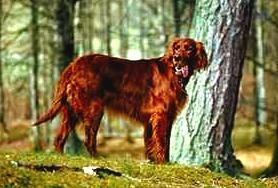Irish_setter: (27, 37, 209, 167)
